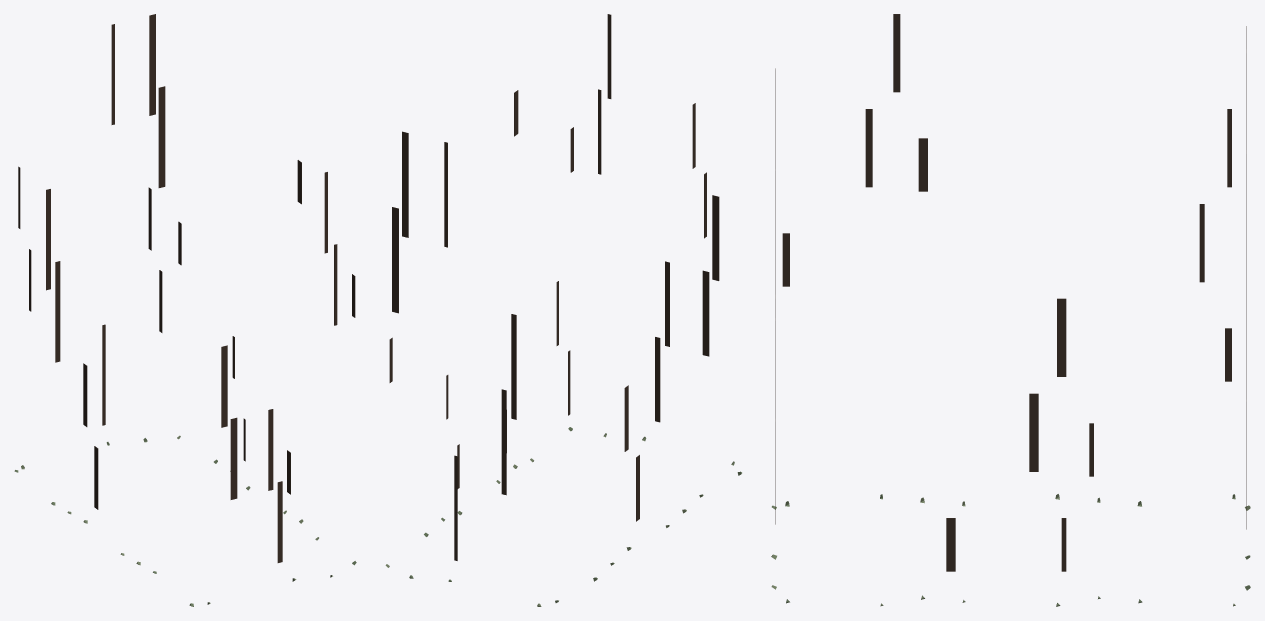
Rendered from crib_pier_12x28x6_detail2.glb.
3 renders of one model, left to right at view 1: azimuth 30°, elevation 25°; view 2: azimuth 150°, elevation 25°; view 3: azimuth 270°, elevation 25°, orthographic. The views are drawn at different scales.
Parts seen in each view (by area): view 1: crib_pier_12x28x6_detail2_mesh; view 2: crib_pier_12x28x6_detail2_mesh; view 3: crib_pier_12x28x6_detail2_mesh.
Part boxes in pixels (bbox=[...]): crib_pier_12x28x6_detail2_mesh: bbox=[14, 14, 356, 606]; crib_pier_12x28x6_detail2_mesh: bbox=[385, 14, 741, 606]; crib_pier_12x28x6_detail2_mesh: bbox=[771, 14, 1250, 606].
Size of the model in its own units: 6.24 by 15.29 by 12.24.
